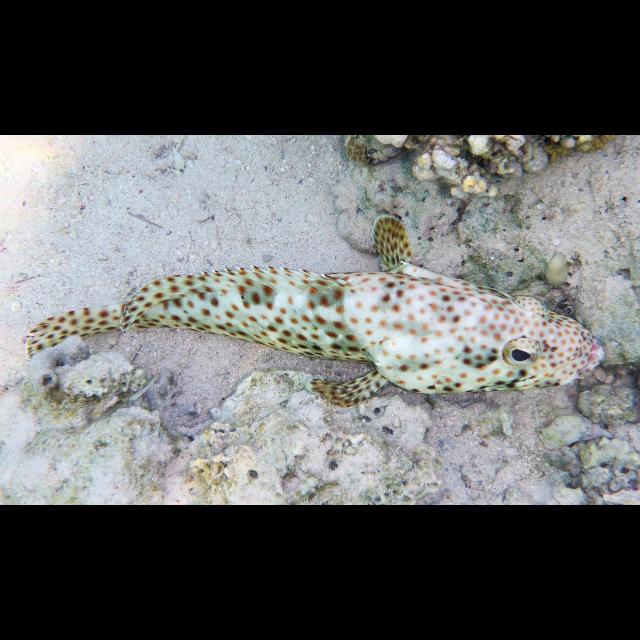Groupers: (24, 212, 606, 406)
